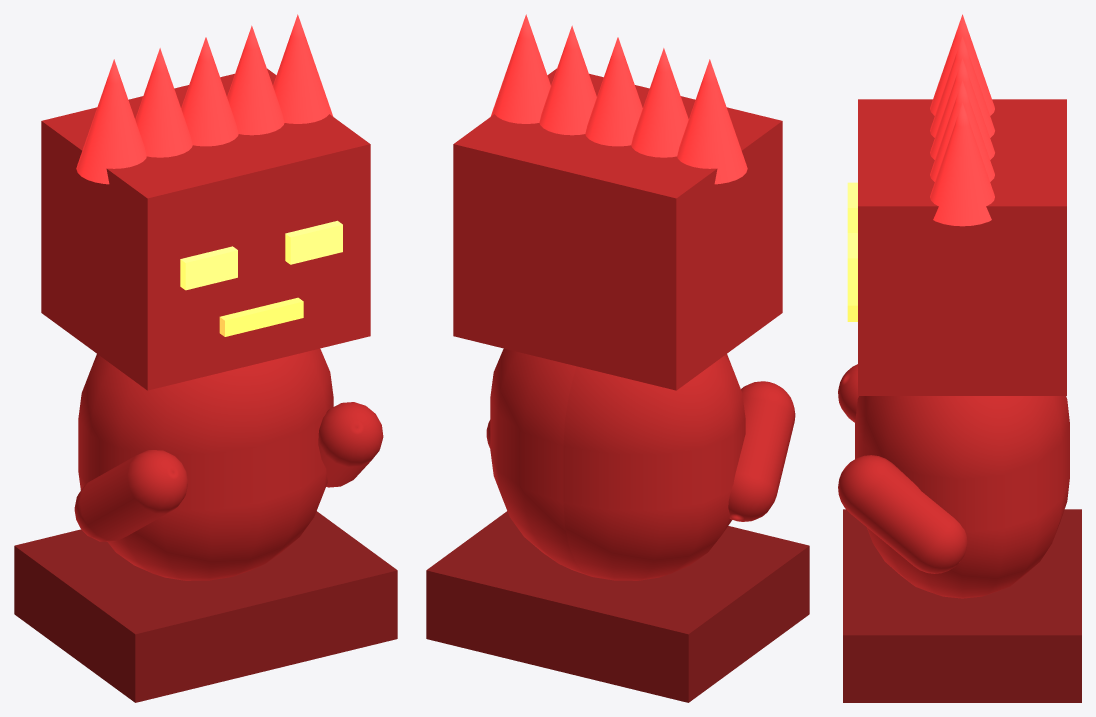
The model's file is idolo.glb.
3 views of the same model, side by side, from view 1: azimuth 30°, elevation 25°; view 2: azimuth 150°, elevation 25°; view 3: azimuth 270°, elevation 25° (orthographic).
Visible parts, largest first — view 1: idolo; view 2: idolo; view 3: idolo.
Part boxes in pixels (x1,y1,x2,y2): idolo: (14,14,397,702); idolo: (426,14,809,702); idolo: (838,14,1081,702).
Size of the model in its own units: 0.2151 by 0.43 by 0.1634.
